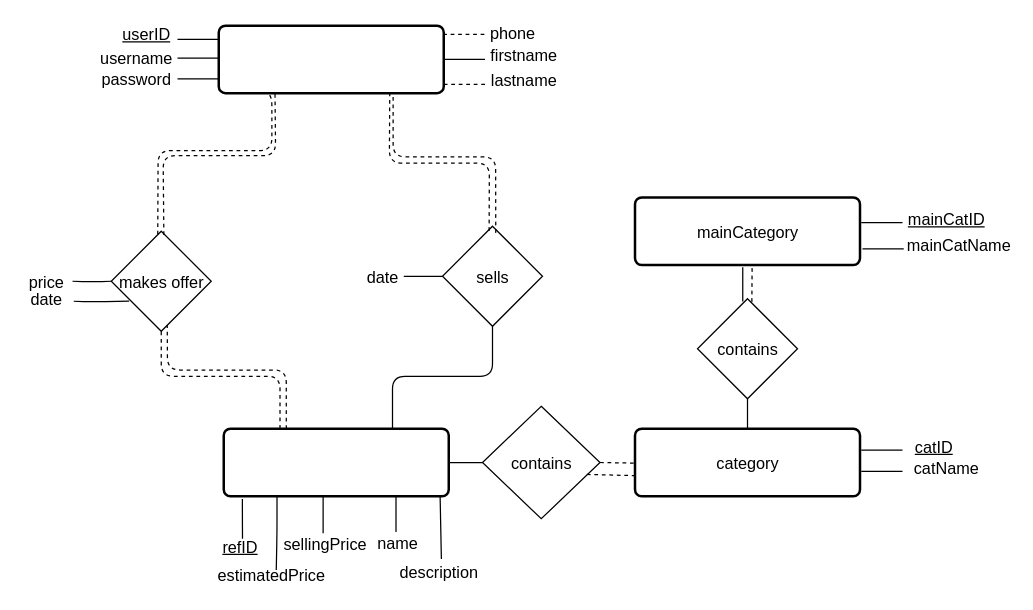
Some shapes in this 1033 by 610 pixel diagram are drawn without their labels. Here are the shapes that lost their labels. From the top down, the centre of each, then its label:
At (330,59): "user".
At (335,462): "product".
